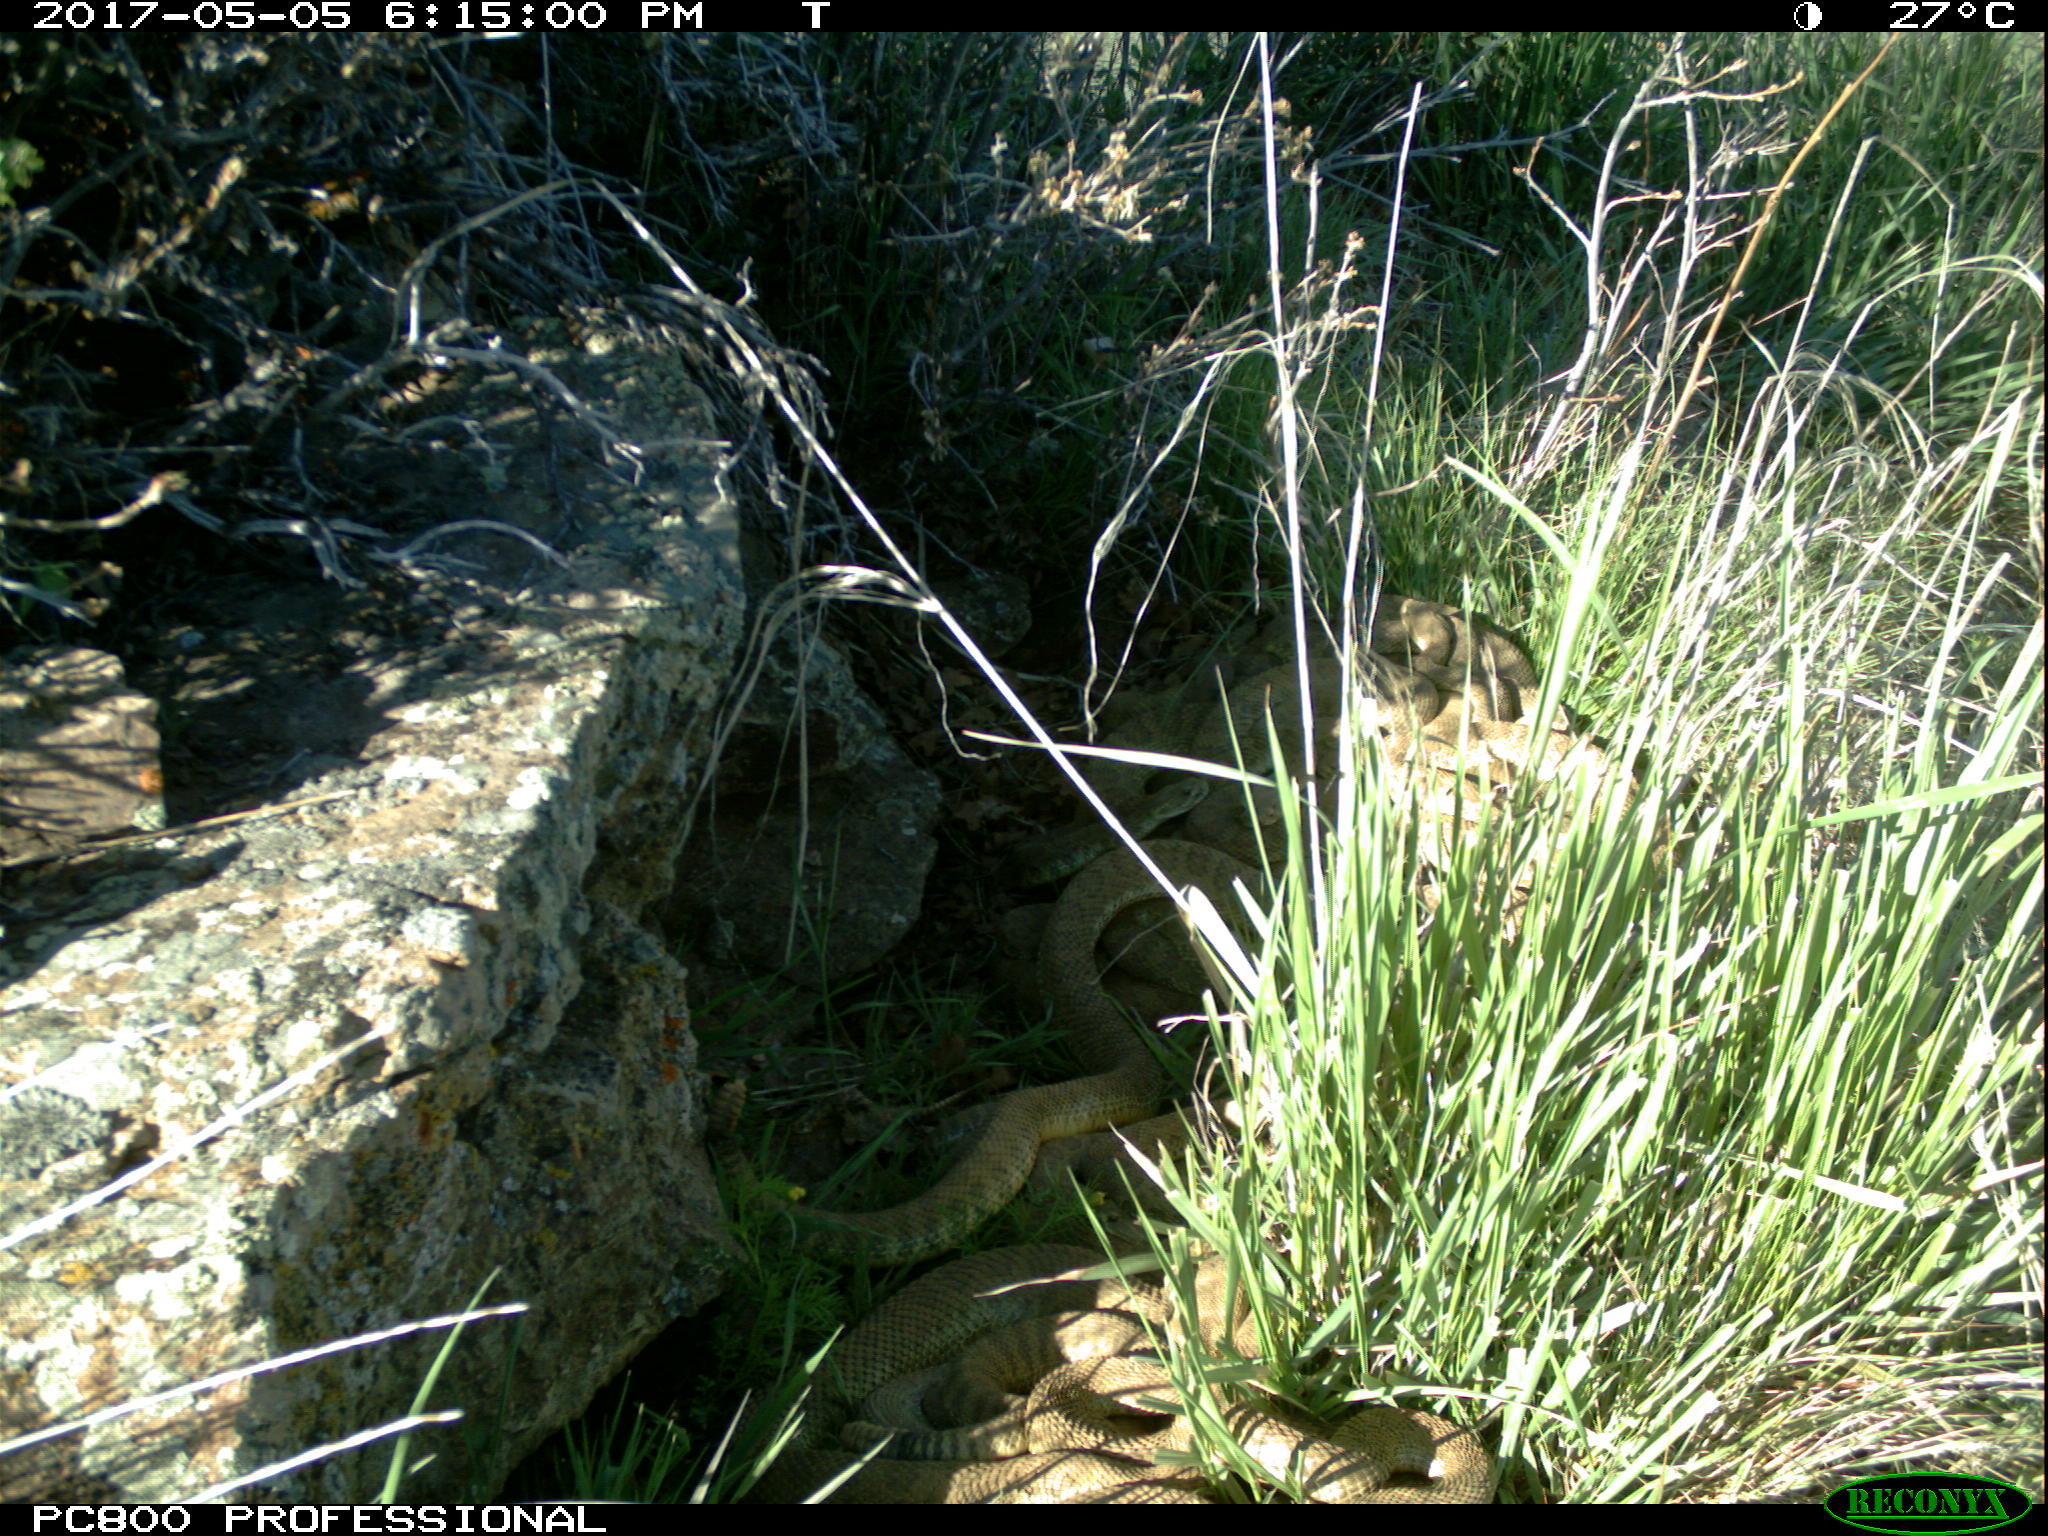snake: (764, 1242, 1501, 1505), (687, 1047, 1271, 1213), (1026, 831, 1314, 1046), (1132, 595, 1550, 712), (1393, 674, 1637, 865), (1090, 691, 1403, 820)
